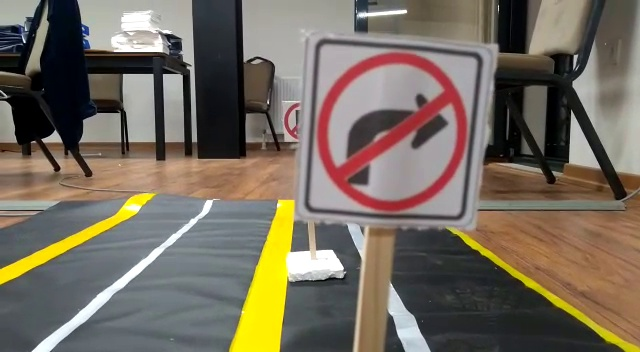saga_donulmez: (316, 40, 466, 218)
